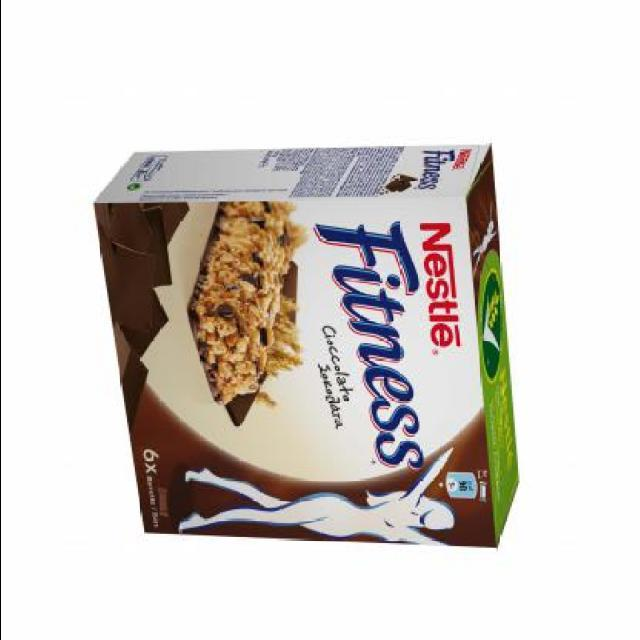Cereal bar: (88, 139, 530, 556)
